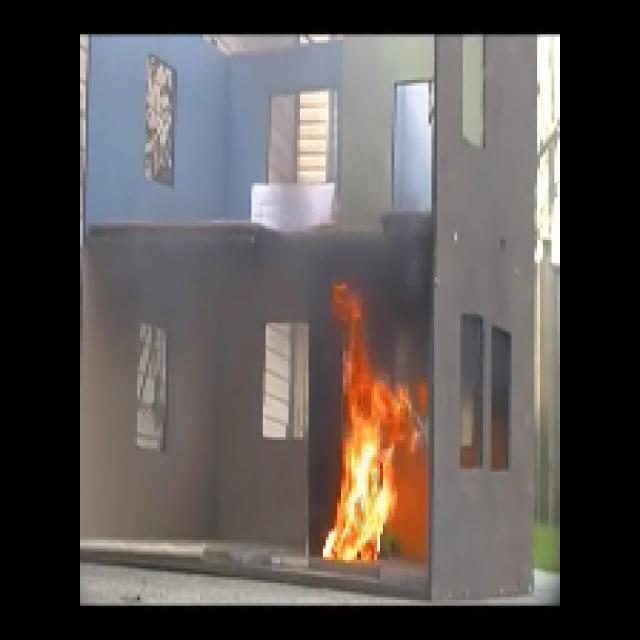fire: (326, 307, 410, 563)
smoke: (349, 234, 417, 301)
